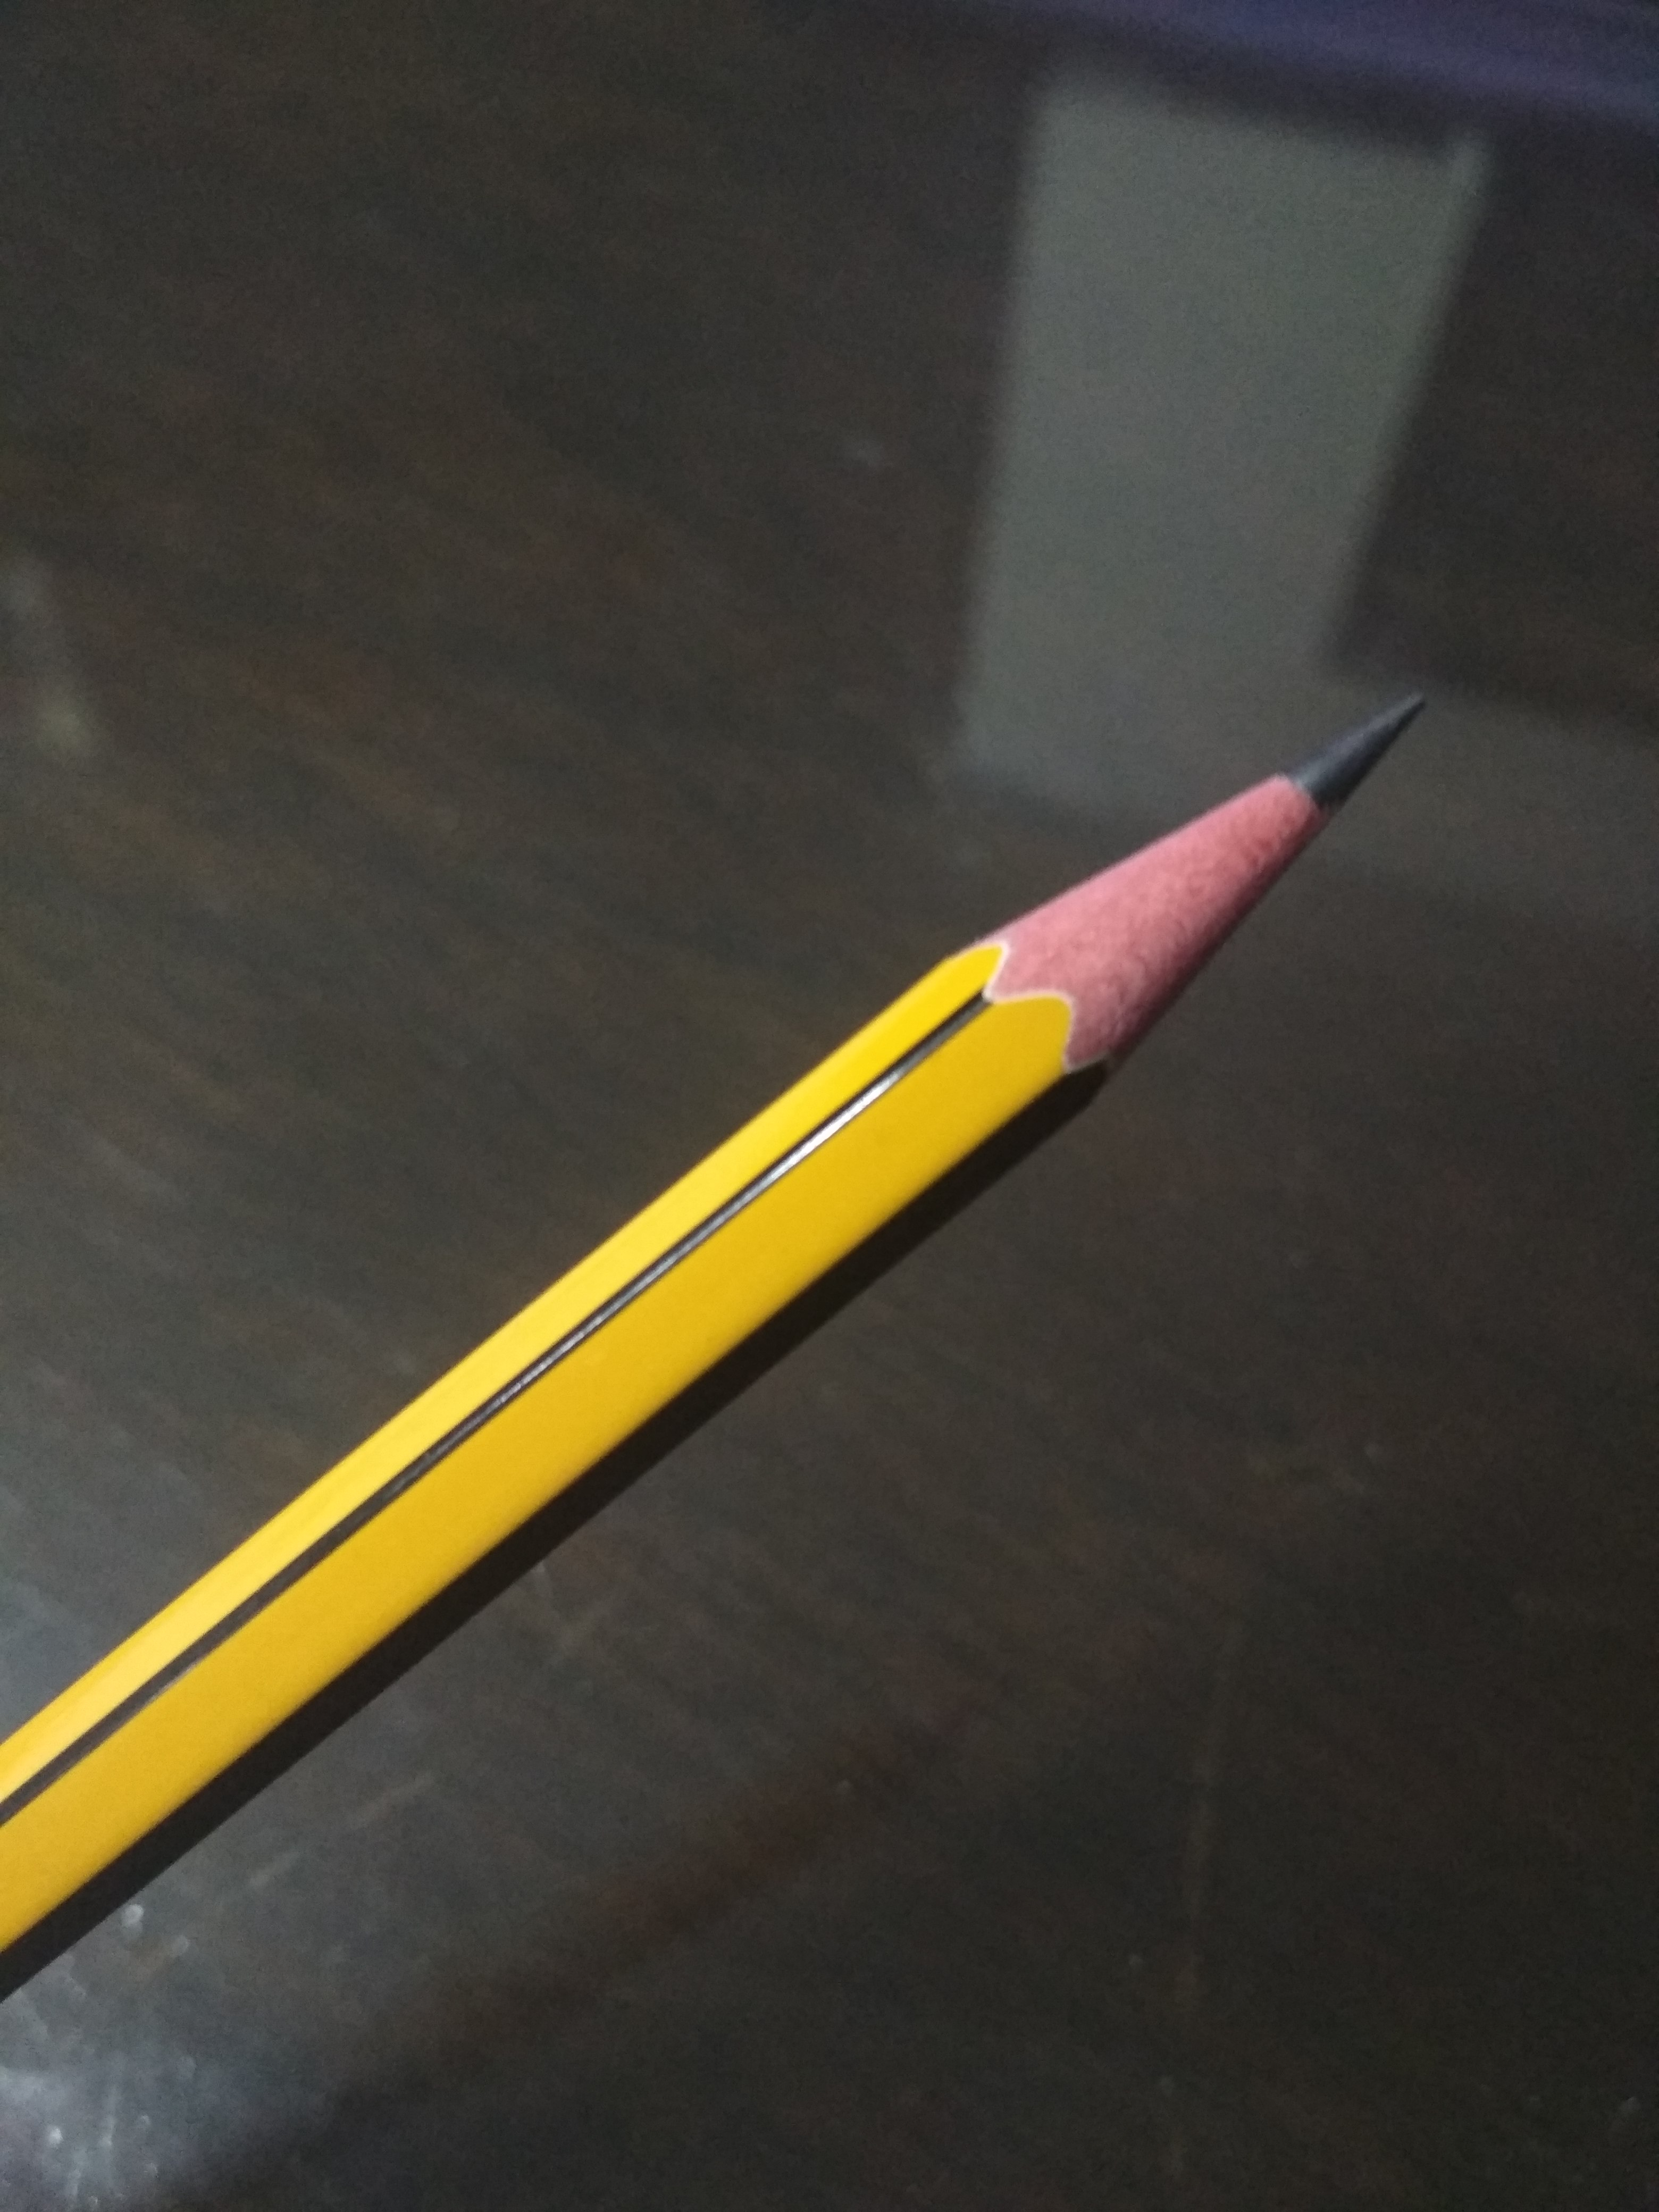pen_tip: (857, 606, 1556, 1188)
